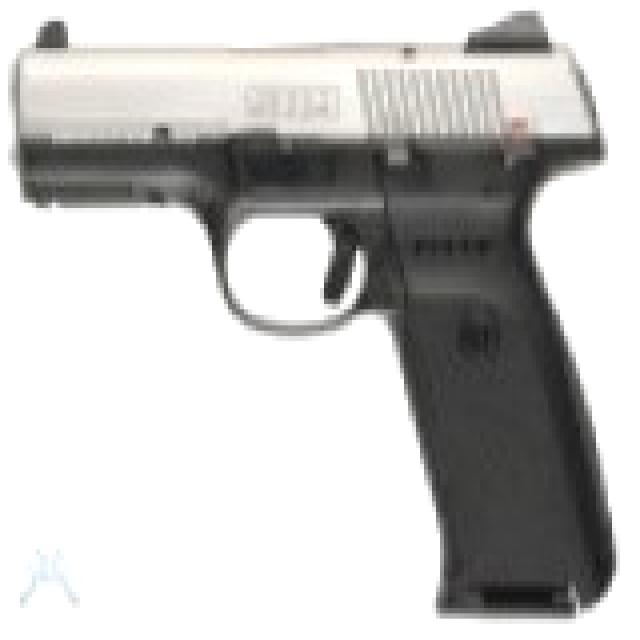pistol: (12, 16, 612, 613)
